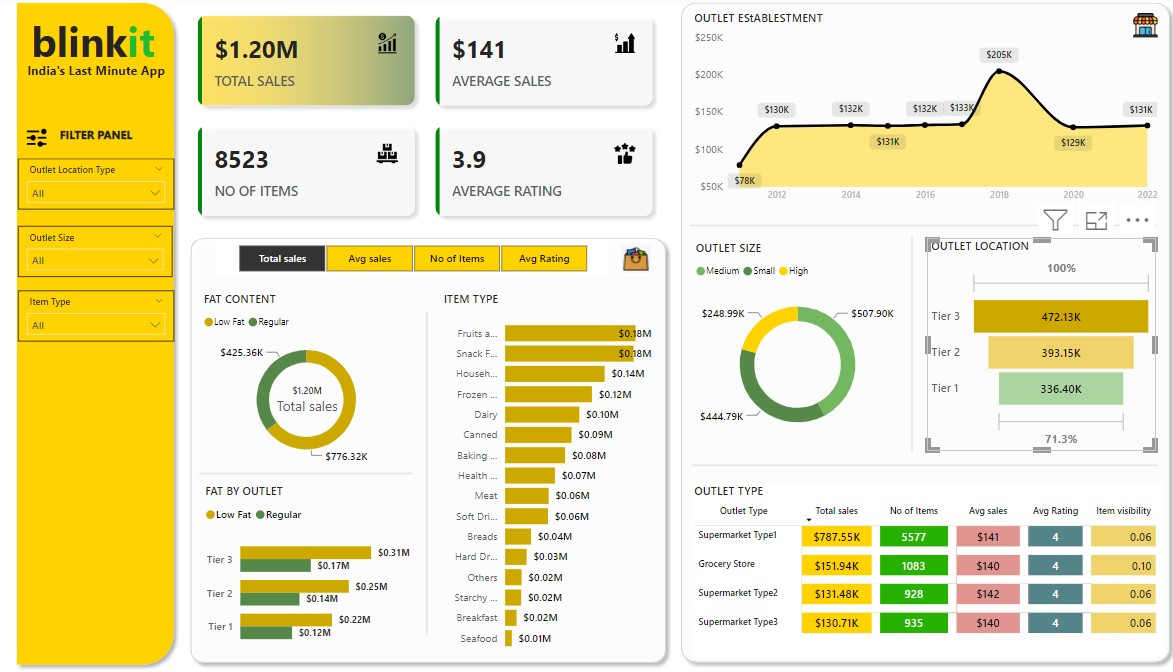

The dashboard page shown, as its layout file describes it:
{"tool":"powerbi","page":{"name":"Page 1","canvas":[1400,800],"ordinal":0},"visuals":[{"type":"shape","box":[10.6,0,203.2,798.2],"z":0},{"type":"textbox","box":[31,16.5,184,76.5],"z":1000},{"type":"textbox","box":[20.7,72.3,184,39.3],"z":2000},{"type":"cardVisual","fields":{"Data":["BlinkIT Grocery Data.Total_sales","BlinkIT Grocery Data.Average_sales","BlinkIT Grocery Data.No_of_Items","BlinkIT Grocery Data.Avg_Rating"]},"box":[215.6,7.1,570.9,270.4],"z":3000},{"type":"shape","box":[215.6,277.5,577.9,518.4],"z":4000},{"type":"donutChart","title":"FAT CONTENT","fields":{"Y":["BlinkIT Grocery Data.Total sales"],"Category":["BlinkIT Grocery Data.Item Fat Content"]},"box":[235.1,348.2,251,212.1],"z":5000},{"type":"slicer","title":"FAT BY OUTLET","fields":{"Values":["Metrics.Metrics"]},"box":[256.3,288.1,459.5,44.2],"z":6000},{"type":"cardVisual","fields":{"Data":["BlinkIT Grocery Data.Total sales"]},"box":[296.3,442.4,130.8,56.6],"z":7000},{"type":"clusteredBarChart","title":"FAT BY OUTLET","fields":{"Y":["BlinkIT Grocery Data.Total sales"],"Category":["BlinkIT Grocery Data.Outlet Location Type"],"Series":["BlinkIT Grocery Data.Item Fat Content"]},"box":[236.8,574.4,251,206.8],"z":8000},{"type":"shape","box":[235.1,553.2,251,21.2],"z":9000},{"type":"shape","box":[487.8,372.9,30,383.5],"z":10000},{"type":"barChart","title":"ITEM TYPE","fields":{"Y":["BlinkIT Grocery Data.Total sales"],"Category":["BlinkIT Grocery Data.Item Type"]},"box":[517.8,348.2,254.5,433.6],"z":11000},{"type":"shape","box":[793.5,0,593.8,795.3],"z":12000},{"type":"lineChart","title":"OUTLET EStABLESTMENT","fields":{"Y":["BlinkIT Grocery Data.Total sales"],"Category":["BlinkIT Grocery Data.Outlet Establishment Year"]},"box":[813,17.7,555.5,235.1],"z":13000},{"type":"shape","box":[813,261.6,550.2,20],"z":14000},{"type":"donutChart","title":"OUTLET SIZE","fields":{"Category":["BlinkIT Grocery Data.Outlet Size"],"Y":["BlinkIT Grocery Data.Total sales"]},"box":[814.7,288.1,249.2,249.2],"z":15000},{"type":"shape","box":[1062.2,282.8,24.7,254.5],"z":16000},{"type":"funnel","title":"OUTLET LOCATION","fields":{"Category":["BlinkIT Grocery Data.Outlet Location Type"],"Y":["Sum(BlinkIT Grocery Data.Sales)"]},"box":[1092.2,286.3,270.4,251],"z":17000},{"type":"shape","box":[814.7,544.3,549.6,19.4],"z":18000},{"type":"pivotTable","title":"OUTLET TYPE","fields":{"Rows":["BlinkIT Grocery Data.Outlet Type"],"Values":["BlinkIT Grocery Data.Total sales","BlinkIT Grocery Data.No of Items","BlinkIT Grocery Data.Avg sales","BlinkIT Grocery Data.Avg Rating","Avg(BlinkIT Grocery Data.Item Visibility)"]},"box":[813,574.4,558.5,205],"z":19000},{"type":"slicer","fields":{"Values":["BlinkIT Grocery Data.Outlet Location Type"]},"box":[21.2,192.6,183.8,60.1],"z":20000},{"type":"slicer","fields":{"Values":["BlinkIT Grocery Data.Outlet Size"]},"box":[21.2,272.2,182,60.1],"z":21000},{"type":"slicer","fields":{"Values":["BlinkIT Grocery Data.Item Type"]},"box":[21.2,348.2,183.8,60.1],"z":22000},{"type":"textbox","box":[21.2,150.2,183.8,42.4],"z":23000},{"type":"image","box":[1327.3,15.9,44.2,38.9],"z":24000},{"type":"image","box":[726.4,289.8,46,42.4],"z":25000},{"type":"image","box":[21.2,150.2,44.2,35.3],"z":26000}]}

Visuals, with their boxes in screenshot pixels (x1, y1, x2, y2), scaled from the page's 1400x800 canvas onto the 1173x672 screenshot:
shape: left=9, top=0, right=179, bottom=670
textbox: left=26, top=14, right=180, bottom=78
textbox: left=17, top=61, right=172, bottom=94
cardVisual - BlinkIT Grocery Data.Total_sales x BlinkIT Grocery Data.Average_sales: left=181, top=6, right=659, bottom=233
shape: left=181, top=233, right=665, bottom=669
"FAT CONTENT" donutChart: left=197, top=292, right=407, bottom=471
"FAT BY OUTLET" slicer: left=215, top=242, right=600, bottom=279
cardVisual - BlinkIT Grocery Data.Total sales: left=248, top=372, right=358, bottom=419
"FAT BY OUTLET" clusteredBarChart: left=198, top=482, right=409, bottom=656
shape: left=197, top=465, right=407, bottom=482
shape: left=409, top=313, right=434, bottom=635
"ITEM TYPE" barChart: left=434, top=292, right=647, bottom=657
shape: left=665, top=0, right=1162, bottom=668
"OUTLET EStABLESTMENT" lineChart: left=681, top=15, right=1147, bottom=212
shape: left=681, top=220, right=1142, bottom=237
"OUTLET SIZE" donutChart: left=683, top=242, right=891, bottom=451
shape: left=890, top=238, right=911, bottom=451
"OUTLET LOCATION" funnel: left=915, top=240, right=1142, bottom=451
shape: left=683, top=457, right=1143, bottom=474
"OUTLET TYPE" pivotTable: left=681, top=482, right=1149, bottom=655
slicer - BlinkIT Grocery Data.Outlet Location Type: left=18, top=162, right=172, bottom=212
slicer - BlinkIT Grocery Data.Outlet Size: left=18, top=229, right=170, bottom=279
slicer - BlinkIT Grocery Data.Item Type: left=18, top=292, right=172, bottom=343
textbox: left=18, top=126, right=172, bottom=162
image: left=1112, top=13, right=1149, bottom=46
image: left=609, top=243, right=647, bottom=279
image: left=18, top=126, right=55, bottom=156
